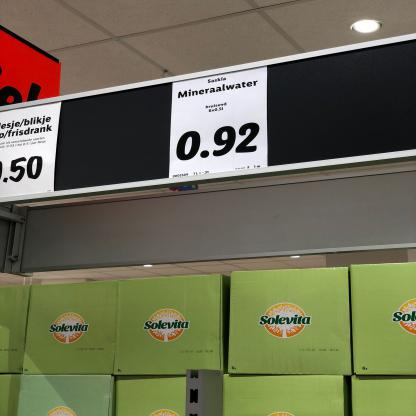prtg: (170, 67, 269, 180), (1, 102, 63, 199)
